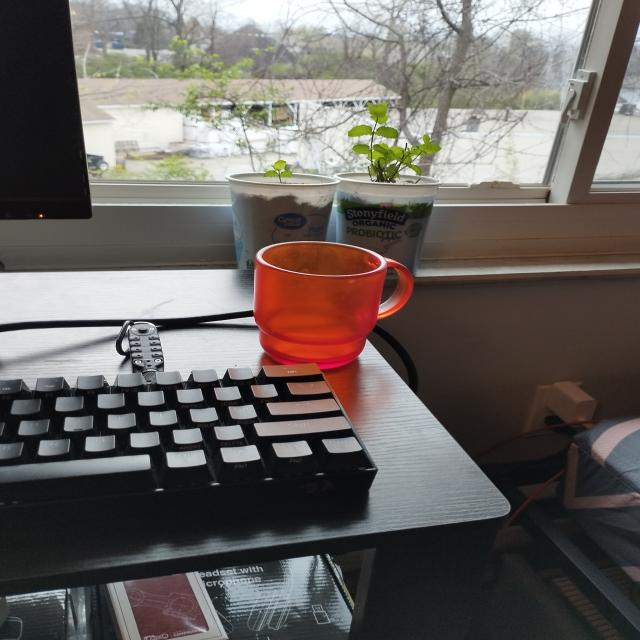Cup: (234, 220, 449, 393)
